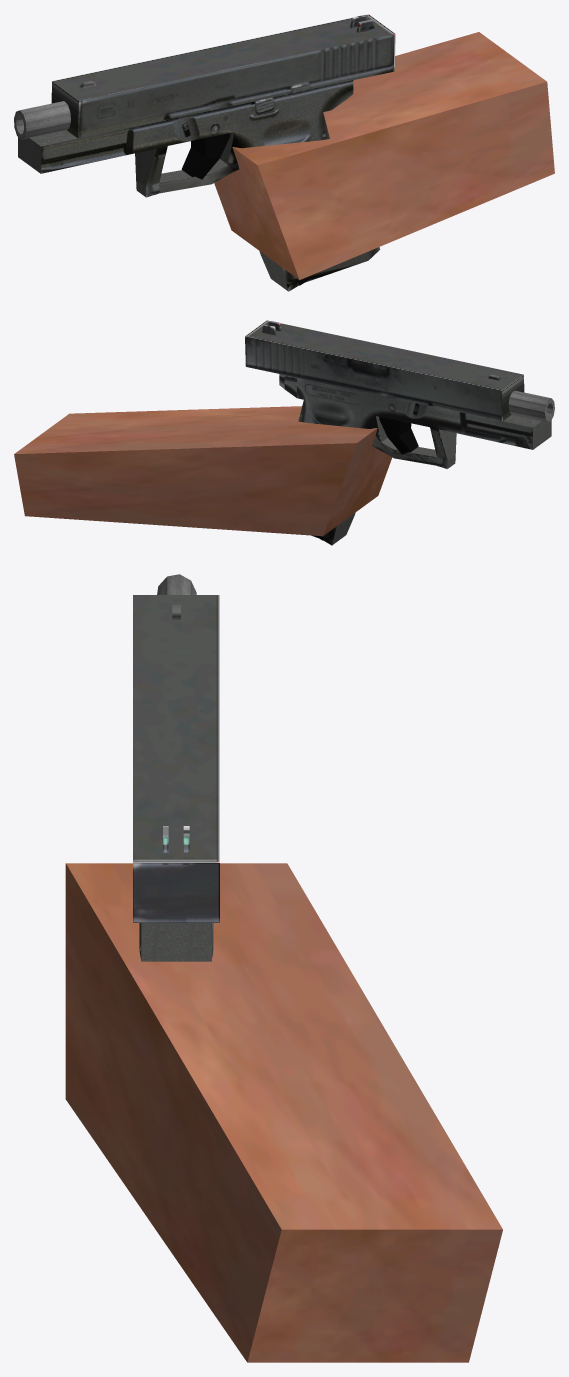
File: pistol_000005.obj
3 views of the same model, one above another, from view 1: azimuth 30°, elevation 25°; view 2: azimuth 150°, elevation 25°; view 3: azimuth 270°, elevation 25° (orthographic). The views are drawn at different scales.
Visible parts, largest first — view 1: Cube, Cube.001, Cube.003; view 2: Cube, Cube.001, Cube.003; view 3: Cube, Cube.001.
Boxes of the visible parts, x1,y1,x2,y2 form: Cube: (14, 32, 554, 291); Cube.001: (51, 14, 395, 138); Cube.003: (181, 133, 230, 179); Cube: (14, 374, 554, 545); Cube.001: (245, 320, 524, 420); Cube.003: (379, 417, 418, 454); Cube: (65, 574, 502, 1362); Cube.001: (133, 595, 219, 922).
Size of the model in its own units: 1.73 by 0.7366 by 0.7214.
